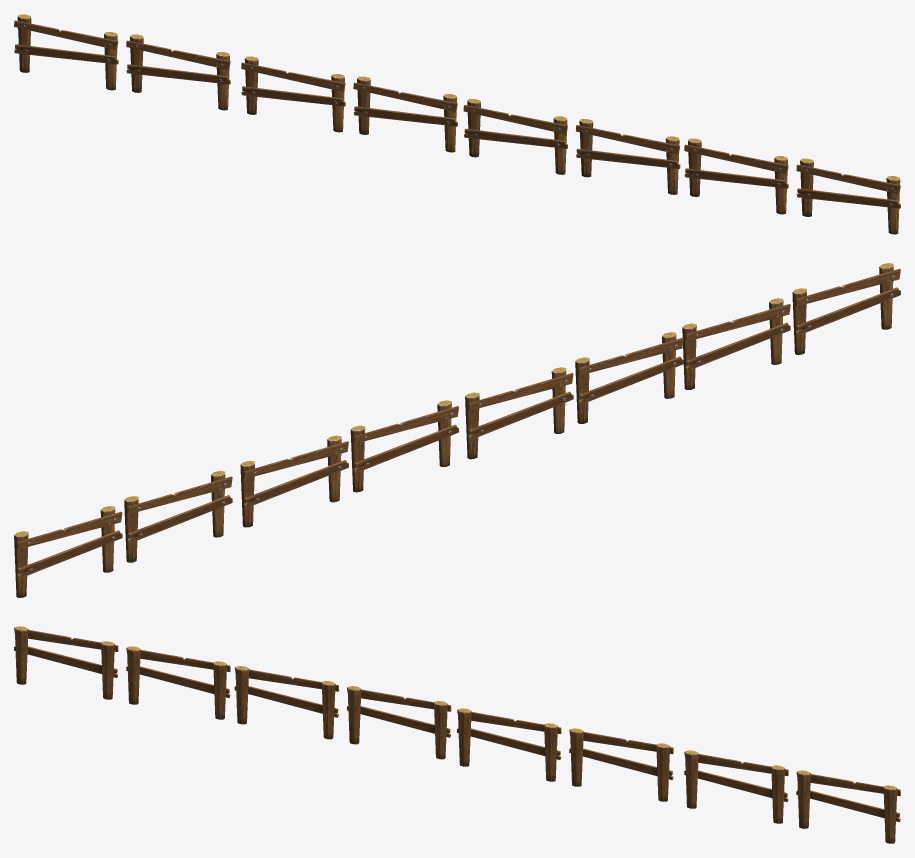
File: Area_08_5.fbx
3 views of the same model, one above another, from view 1: azimuth 90°, elevation 25°; view 2: azimuth 150°, elevation 25°; view 3: azimuth 270°, elevation 25° (orthographic). The views are drawn at different scales.
Visible parts, largest first — view 1: Area_08_5; view 2: Area_08_5; view 3: Area_08_5.
Boxes of the visible parts, x1,y1,x2,y2 form: Area_08_5: (14, 14, 900, 234); Area_08_5: (14, 263, 900, 597); Area_08_5: (14, 626, 900, 843).
Size of the model in its own units: 910 by 142 by 2042.
